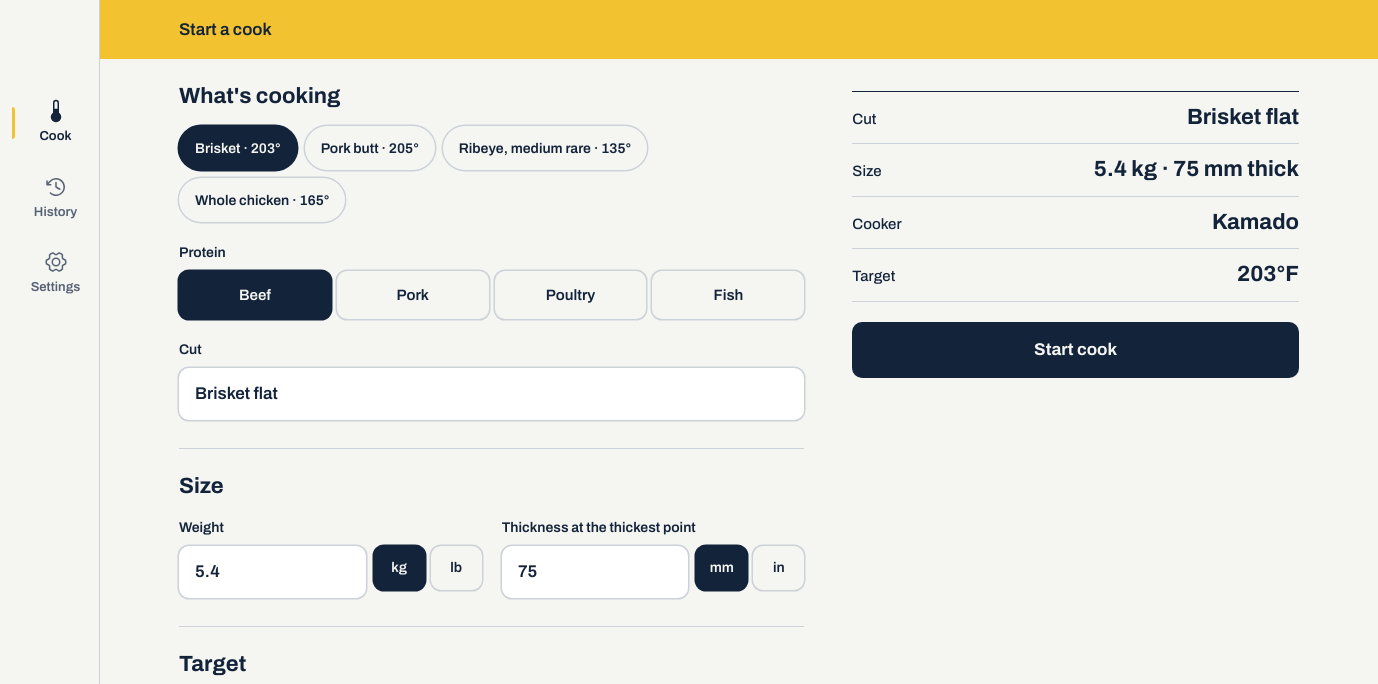
SetupScreen › applies a preset to protein, cut and target
Click the button "Pork butt · 205°": point(370, 148) [305,126,435,170]
(page scrolled)
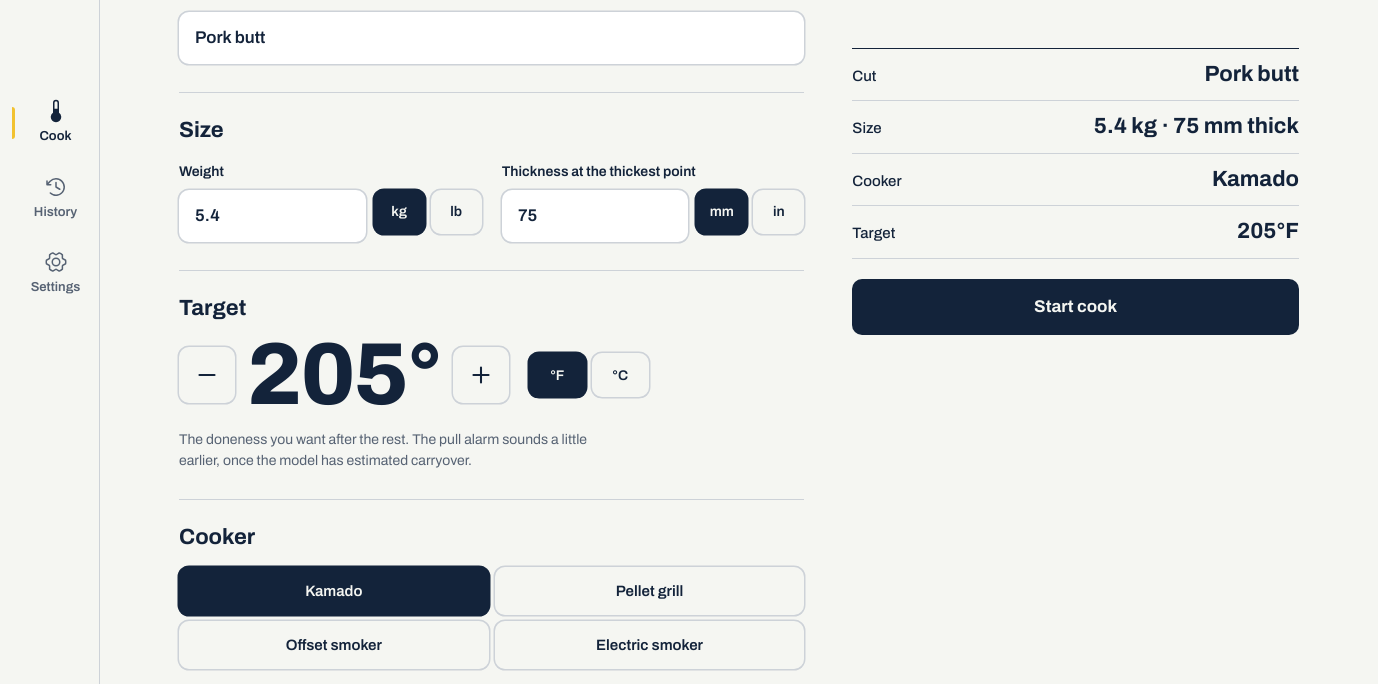
Now the field labelled "Cut" holds "Pork butt", box [179,12,804,64]
Now the text named "Target temperature" reads "205°", box [247,338,441,413]
